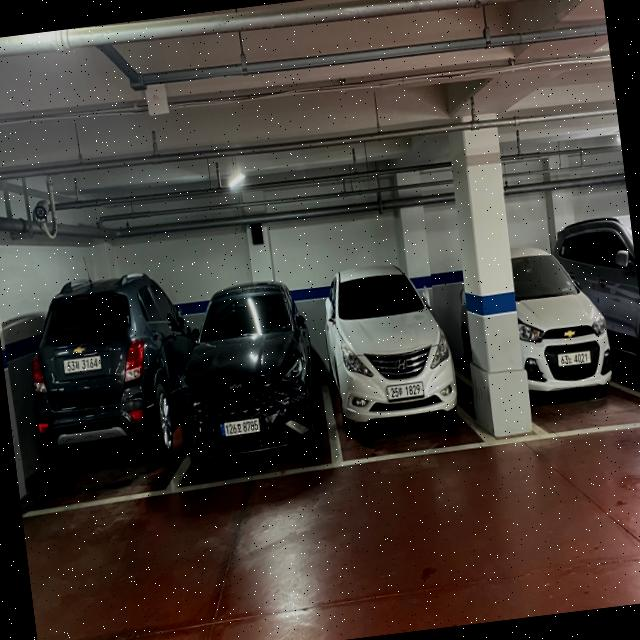occupied: (14, 270, 186, 473), (169, 276, 323, 462), (321, 255, 462, 425), (510, 242, 615, 404)
